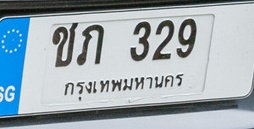txt08: (49, 22, 80, 69)
txt27: (76, 23, 105, 66)
